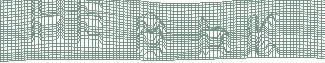8: (133, 11, 168, 59)
E: (76, 1, 106, 50)
H: (30, 1, 66, 46)
K: (245, 11, 283, 59)
b: (196, 16, 231, 58)
